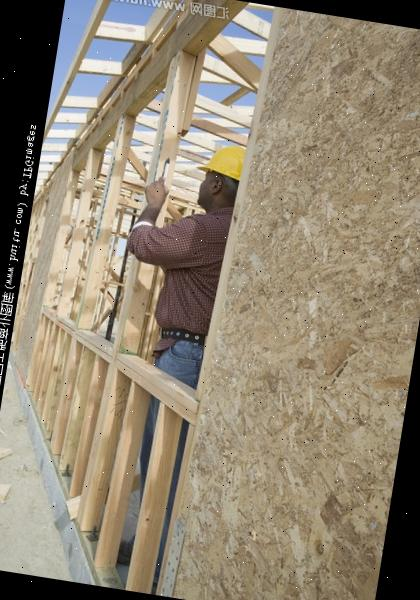helmet: (198, 141, 243, 188)
no_wear: (150, 205, 234, 347)
